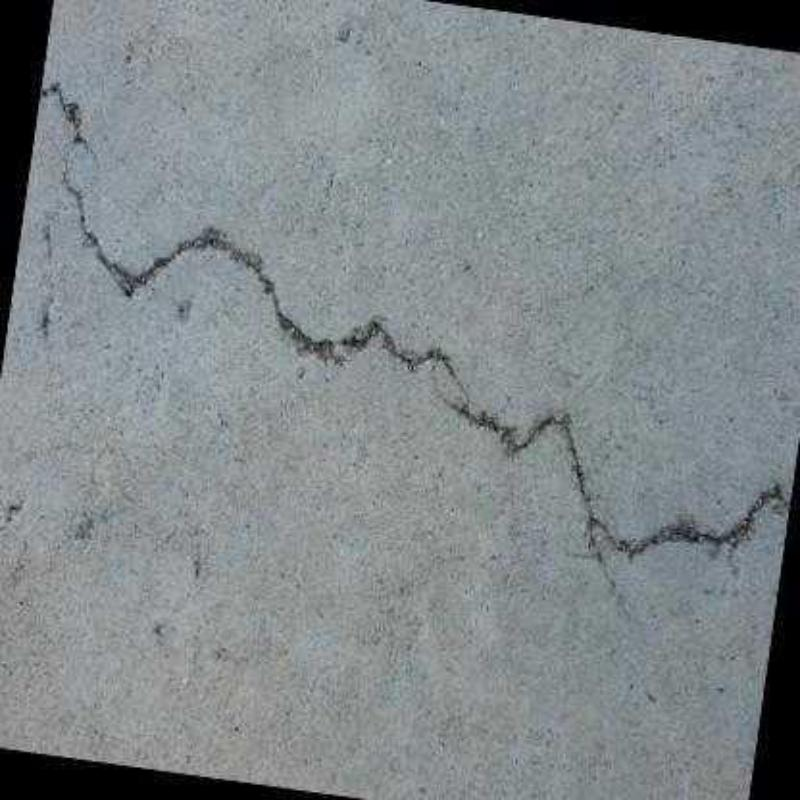pothole: (37, 75, 791, 562)
